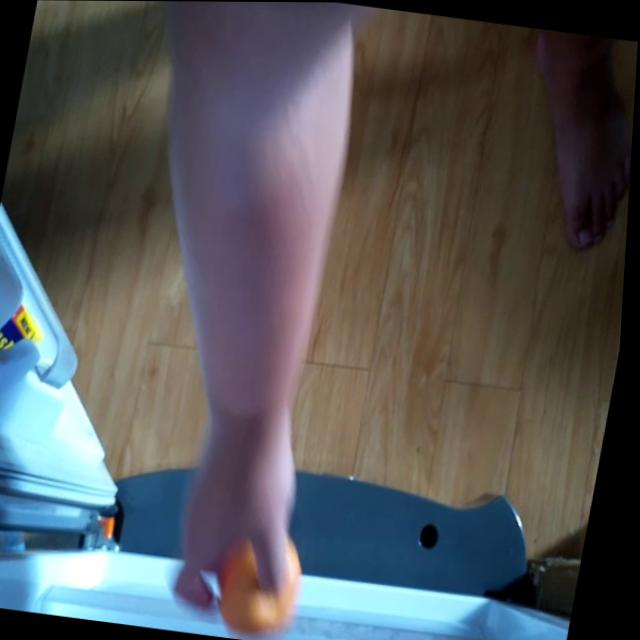apple: (217, 530, 319, 640)
